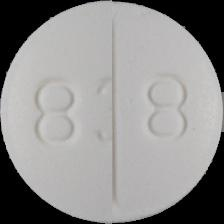0832-0038: (0, 0, 224, 224)
